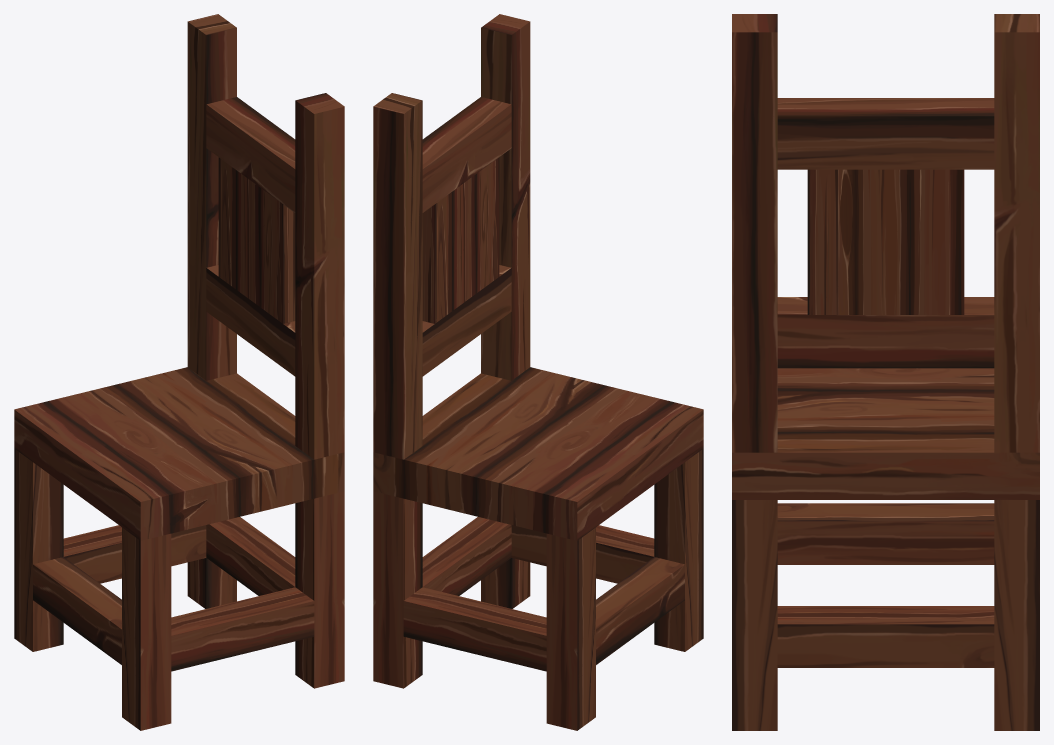
File: wood_chair1.fbx
3 views of the same model, side by side, from view 1: azimuth 30°, elevation 25°; view 2: azimuth 150°, elevation 25°; view 3: azimuth 270°, elevation 25° (orthographic). The views are drawn at different scales.
Parts seen in each view (by area): view 1: chair; view 2: chair; view 3: chair.
Boxes of the visible parts, x1,y1,x2,y2 form: chair: (14,14,344,730); chair: (373,14,703,730); chair: (732,14,1039,730).
Size of the model in its own units: 4.58 by 12.31 by 4.91.
